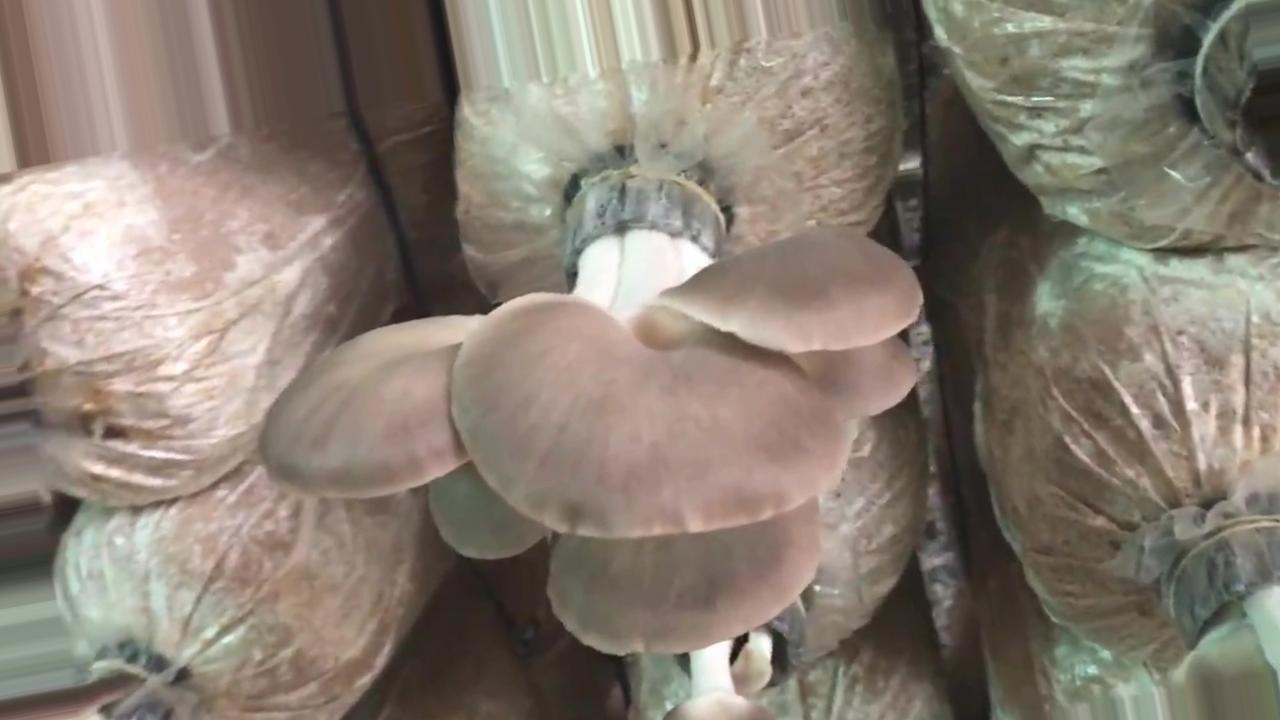nam: (265, 173, 920, 654), (1182, 530, 1280, 720), (664, 602, 804, 720)
